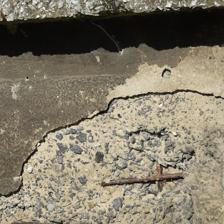Crack: (62, 67, 161, 108), (165, 8, 224, 23)
